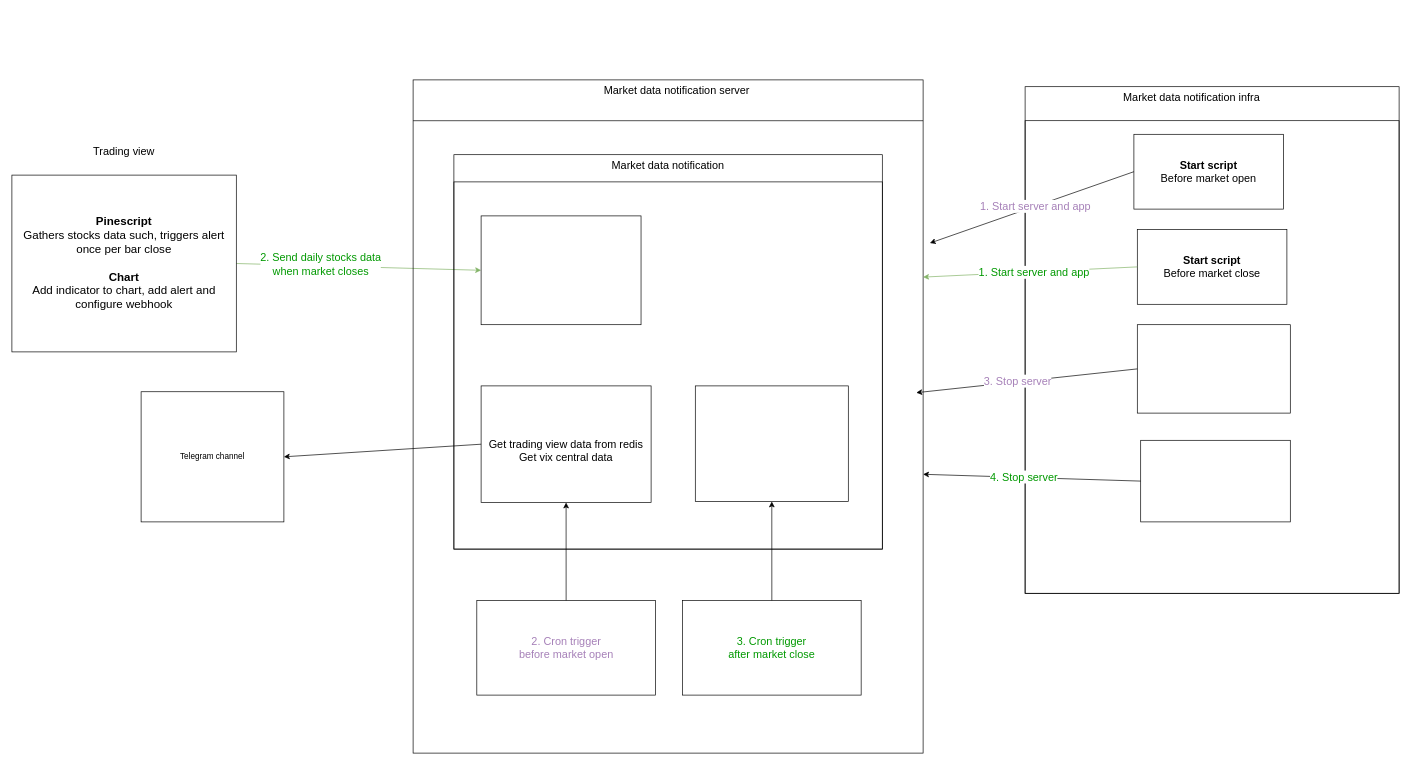
This 1411x765 diagram has some shape labels left out. Each missing label, with the centre of its shape:
"Backup redis data via email attachment" goes at point (771, 443).
"Saves data in redis" goes at point (560, 270).
"Stop script After market close" goes at point (1215, 481).
"Stop script After market open" goes at point (1213, 368).
